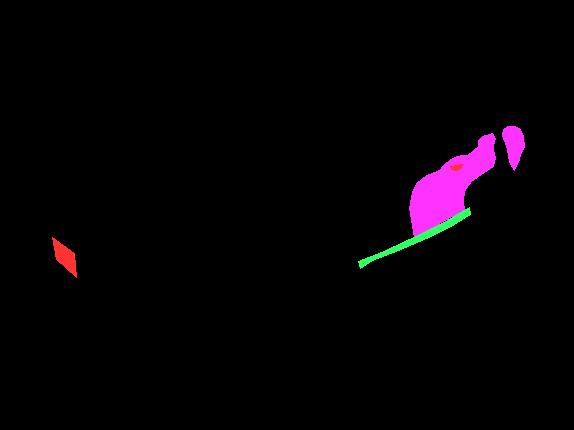Broken part: (358, 207, 470, 268)
Dent: (409, 133, 495, 237), (502, 126, 524, 170)
Missing part: (52, 237, 76, 277), (450, 164, 463, 170)
